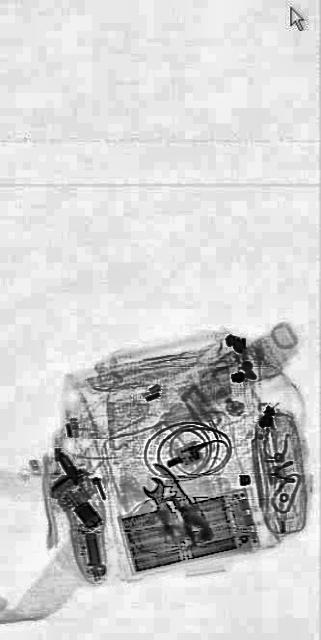Knife: (149, 448, 208, 548)
Wrench: (140, 465, 181, 547)
